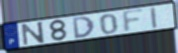0: (98, 13, 120, 35)
8: (49, 18, 70, 43)
D: (72, 15, 97, 40)
F: (121, 7, 146, 34)
I: (150, 6, 159, 30)
N: (20, 20, 47, 47)
